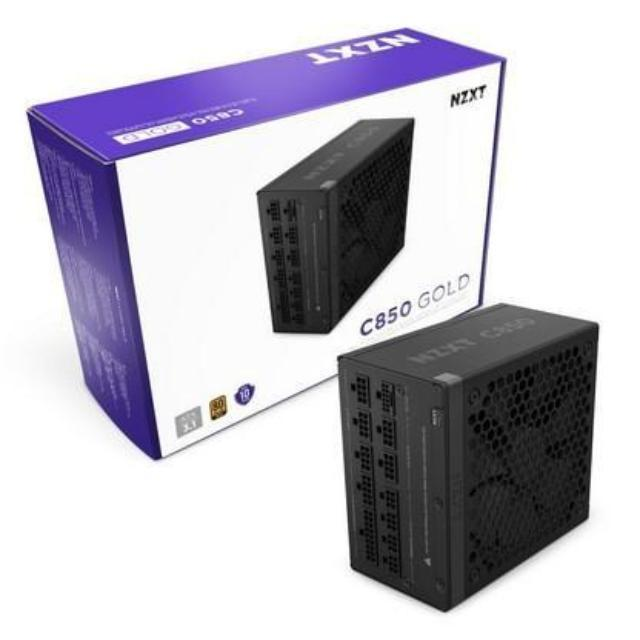PSU: (331, 303, 598, 612)
